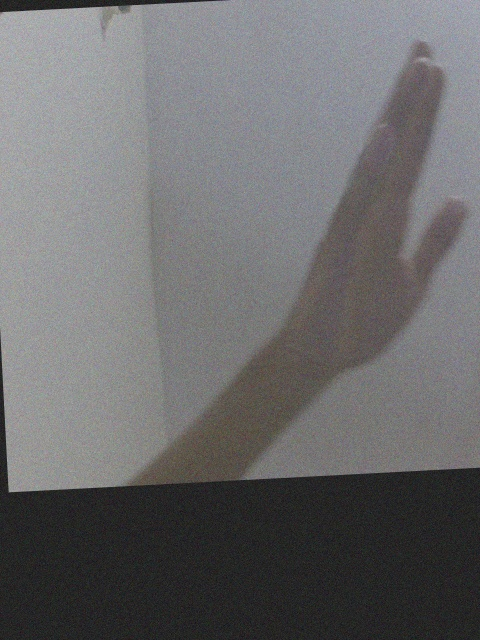hand: (273, 34, 473, 387)
